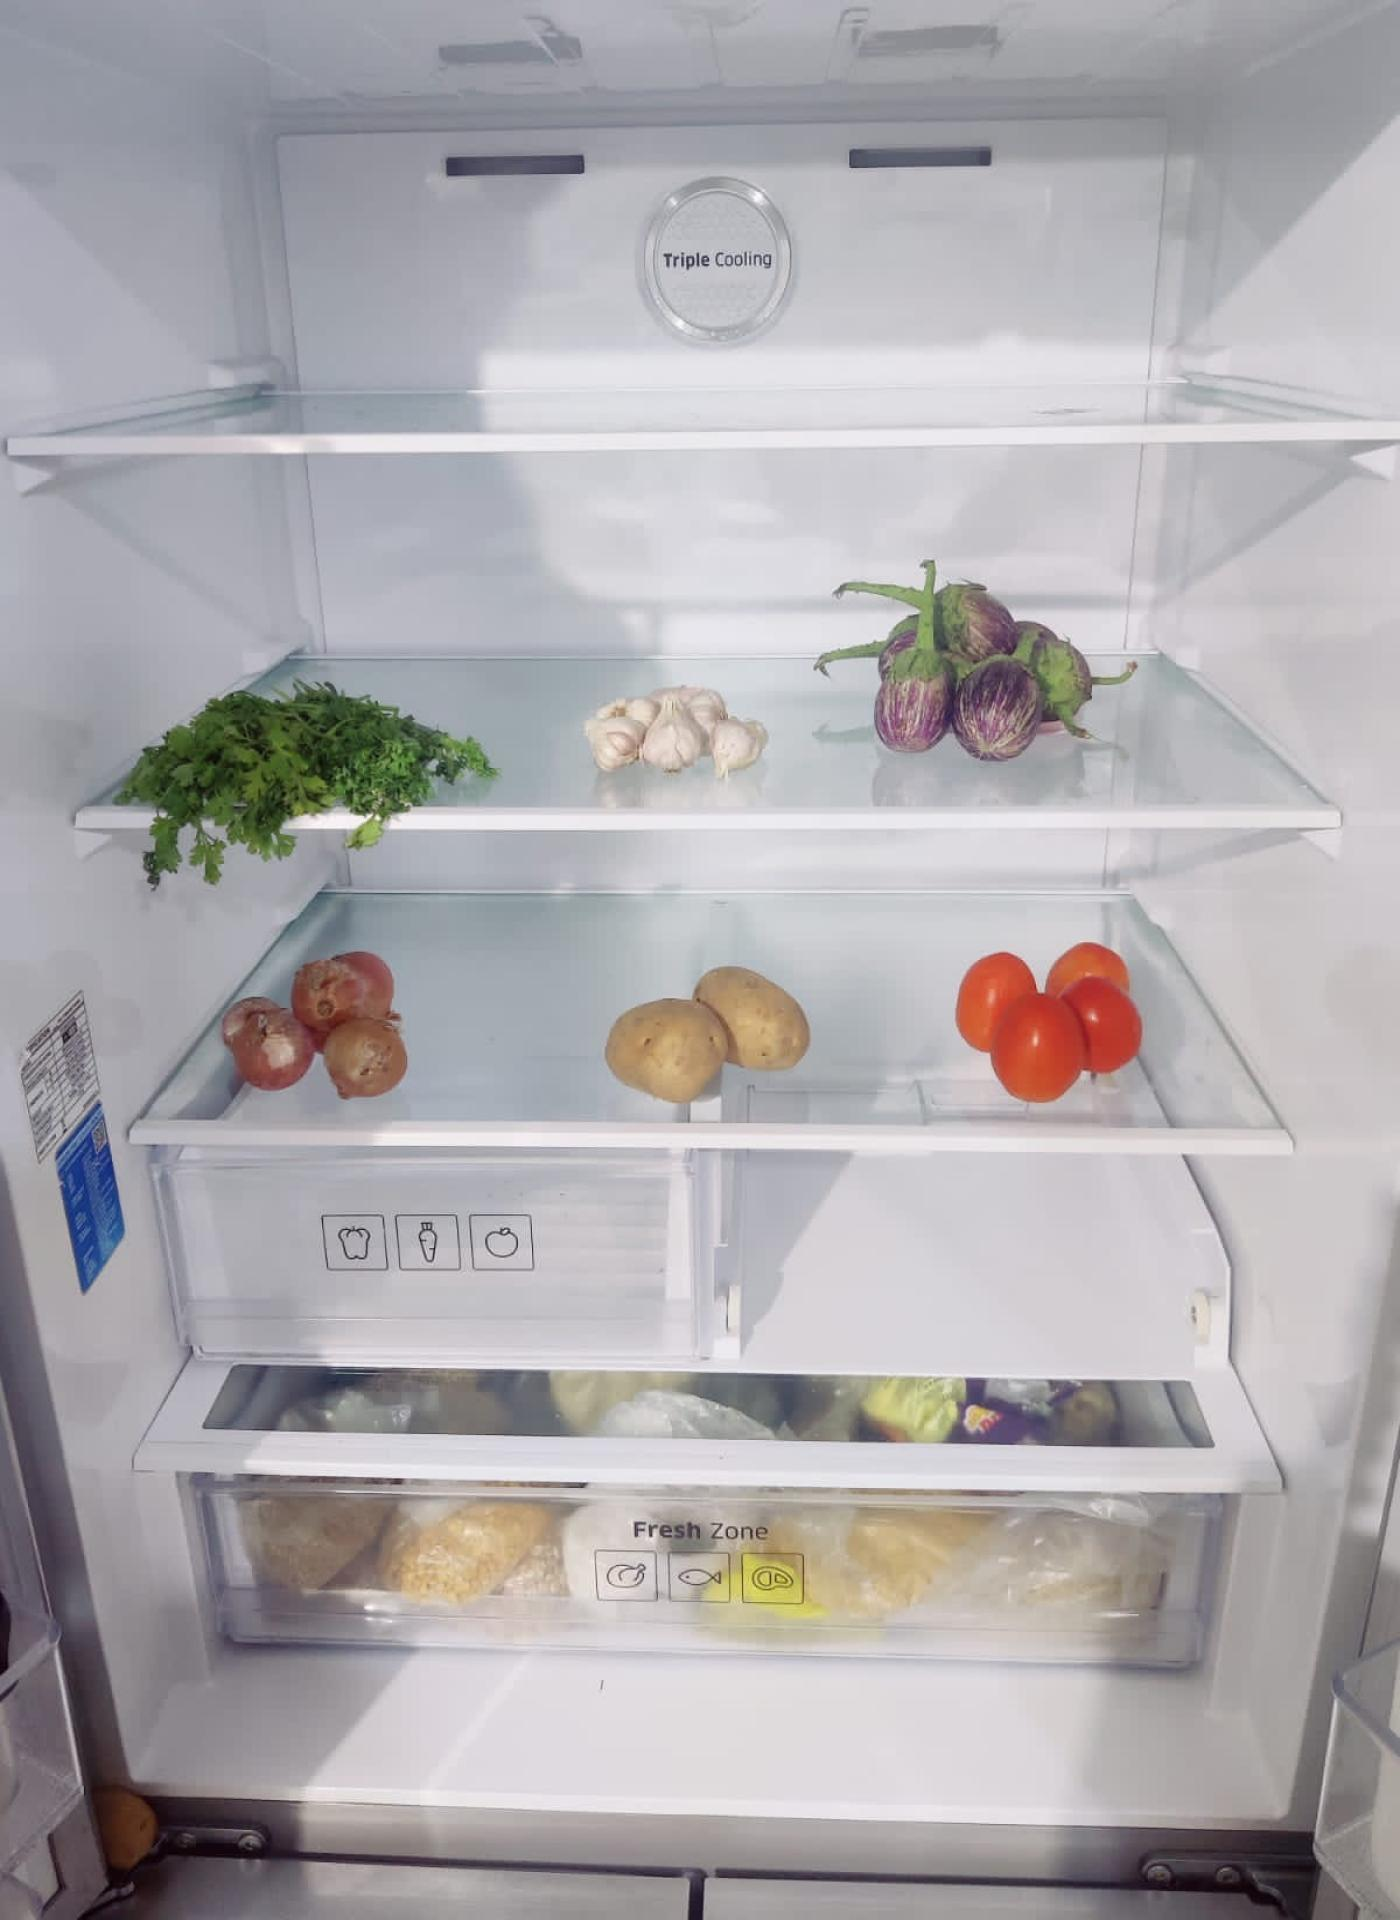brinjal: (872, 580, 1087, 759)
coriander: (128, 677, 489, 841)
garlic: (586, 674, 768, 769)
onion: (227, 951, 413, 1094)
potato: (610, 964, 819, 1102)
tomato: (951, 944, 1144, 1106)
